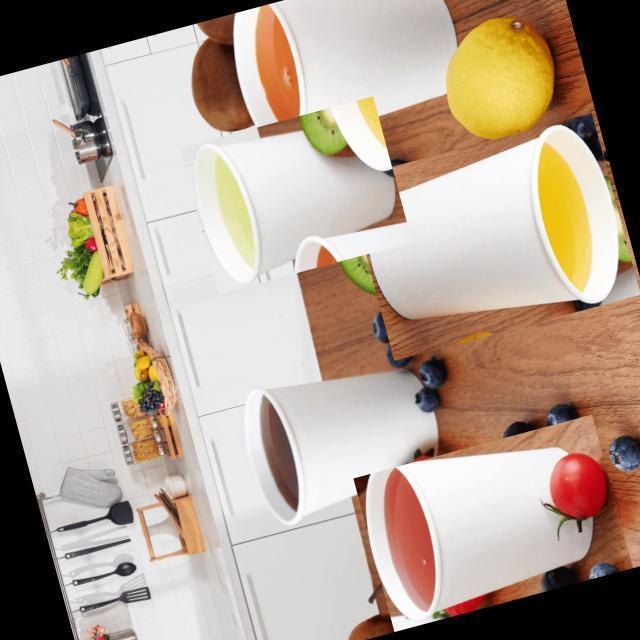Cup: (345, 111, 640, 359), (352, 413, 632, 631), (180, 95, 412, 292), (228, 342, 454, 530), (217, 0, 476, 161)
